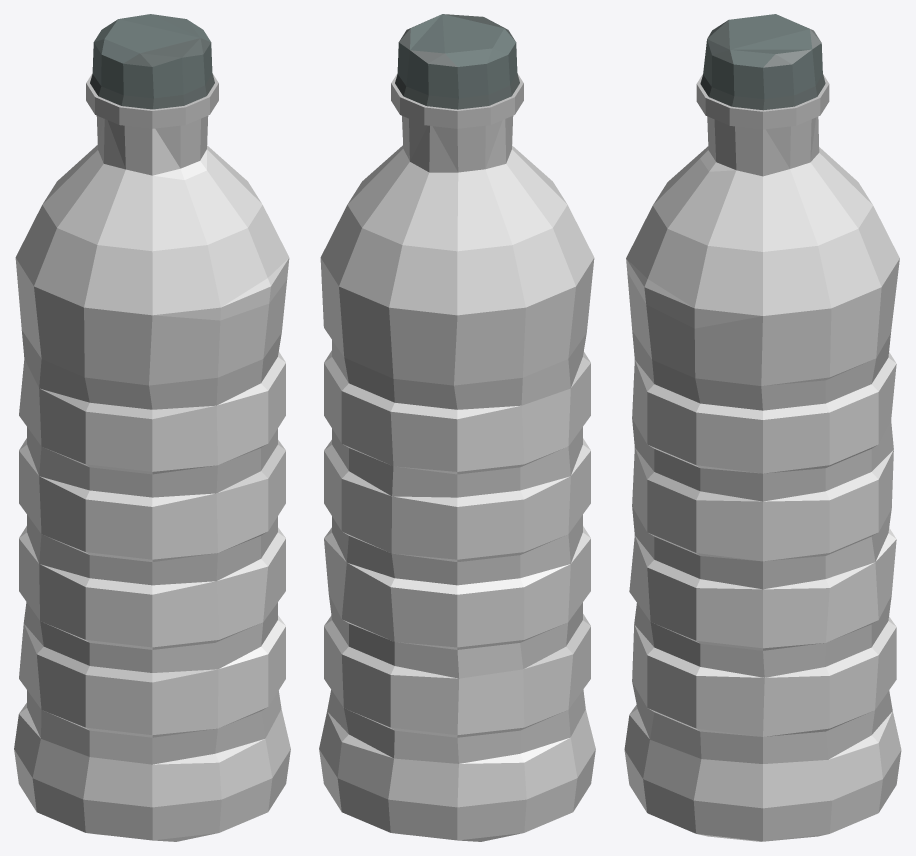
File: mesh_bottle_02.fbx
3 views of the same model, side by side, from view 1: azimuth 30°, elevation 25°; view 2: azimuth 150°, elevation 25°; view 3: azimuth 270°, elevation 25° (orthographic).
Visible parts, largest first — view 1: mesh_bottle_02; view 2: mesh_bottle_02; view 3: mesh_bottle_02.
Boxes of the visible parts, x1,y1,x2,y2 form: mesh_bottle_02: [14, 14, 290, 841]; mesh_bottle_02: [319, 14, 595, 841]; mesh_bottle_02: [624, 14, 901, 841].
Size of the model in its own units: 0.1865 by 0.5671 by 0.1865.
